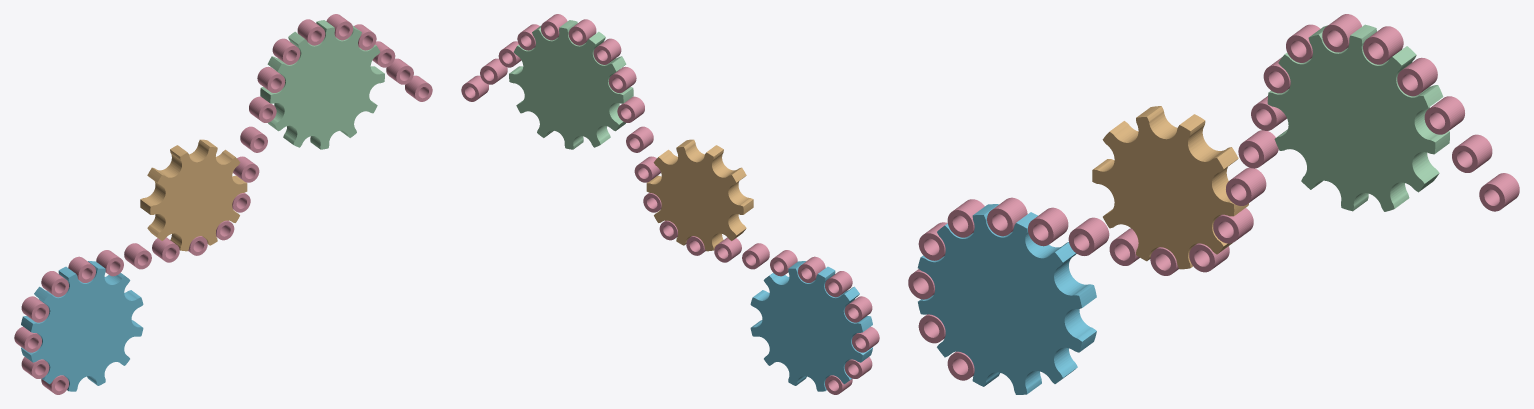
File: chain_dual_output_demo.glb
3 views of the same model, side by side, from view 1: azimuth 30°, elevation 25°; view 2: azimuth 150°, elevation 25°; view 3: azimuth 330°, elevation 25° (orthographic). The views are drawn at different scales.
Parts seen in each view (by area): view 1: out_forward, driver, idler_reverse, roller_01, roller_07, roller_16, roller_13, roller_00, roller_15, roller_14, roller_17, roller_08 (+10 smaller); view 2: out_forward, driver, idler_reverse, roller_01, roller_07, roller_16, roller_13, roller_00, roller_15, roller_14, roller_17, roller_08 (+10 smaller); view 3: driver, out_forward, idler_reverse, roller_19, roller_20, roller_22, roller_07, roller_21, roller_06, roller_12, roller_18, roller_13 (+14 smaller).
Part boxes in pixels (x1,y1,x2,y2): out_forward: (260, 20, 384, 149); driver: (21, 261, 143, 391); idler_reverse: (140, 139, 247, 251); roller_01: (21, 296, 49, 322); roller_07: (124, 243, 151, 269); roller_16: (272, 38, 300, 64); roller_13: (240, 126, 267, 152); roller_00: (41, 271, 68, 297); roller_15: (257, 66, 285, 92); roller_14: (249, 96, 276, 122); roller_17: (297, 19, 325, 45); roller_08: (152, 237, 179, 262); out_forward: (509, 20, 633, 149); driver: (750, 261, 872, 391); idler_reverse: (646, 139, 753, 251); roller_01: (844, 296, 872, 322); roller_07: (742, 243, 769, 269); roller_16: (593, 38, 621, 64); roller_13: (626, 126, 653, 152); roller_00: (825, 271, 852, 297); roller_15: (608, 66, 636, 92); roller_14: (617, 96, 644, 122); roller_17: (568, 19, 596, 45); roller_08: (714, 237, 741, 262); driver: (917, 204, 1096, 394); out_forward: (1267, 24, 1449, 211); idler_reverse: (1092, 106, 1248, 269); roller_19: (1397, 57, 1437, 96); roller_20: (1424, 96, 1464, 134); roller_22: (1479, 173, 1519, 211); roller_07: (1068, 217, 1109, 255); roller_21: (1452, 134, 1492, 172); roller_06: (1028, 207, 1068, 246); roller_12: (1226, 167, 1266, 205); roller_18: (1363, 26, 1403, 64); roller_13: (1238, 130, 1278, 168).
Size of the model in its own units: 139 by 99.78 by 6.
